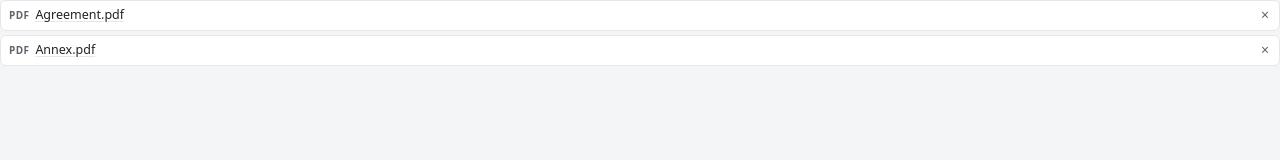
FileRows › puts the file back and shows the save-failed banner when removal fails
The width and height of the screenshot is (1280, 160).
Click the button named "Remove Agreement.pdf" at (1265, 15), box [1255,6,1275,24]
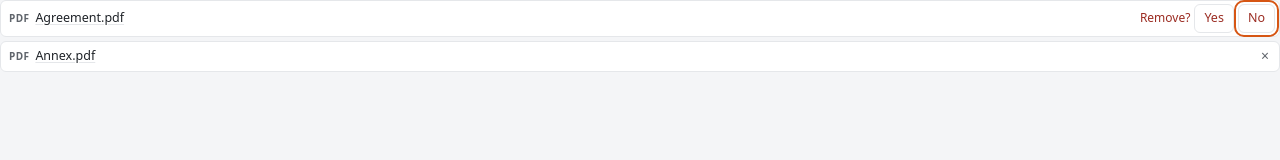
Click the button "Yes" at (1214, 18), box [1194,4,1234,33]
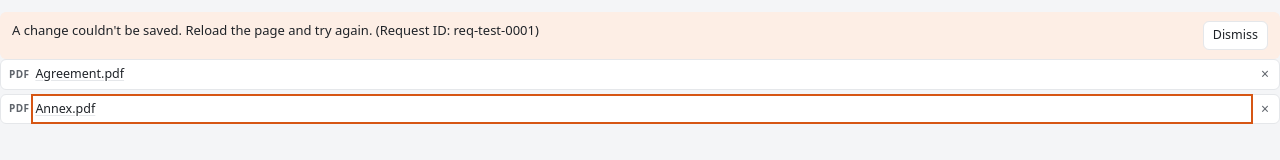
Expected: the button "Agreement.pdf" is shown, [35,63,1249,86]
Expected: the text "A change couldn't be saved" is shown, [12,21,539,39]
